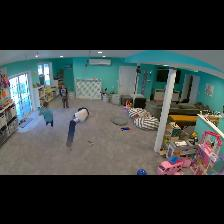person: (40, 102, 53, 127), (60, 83, 68, 108)
